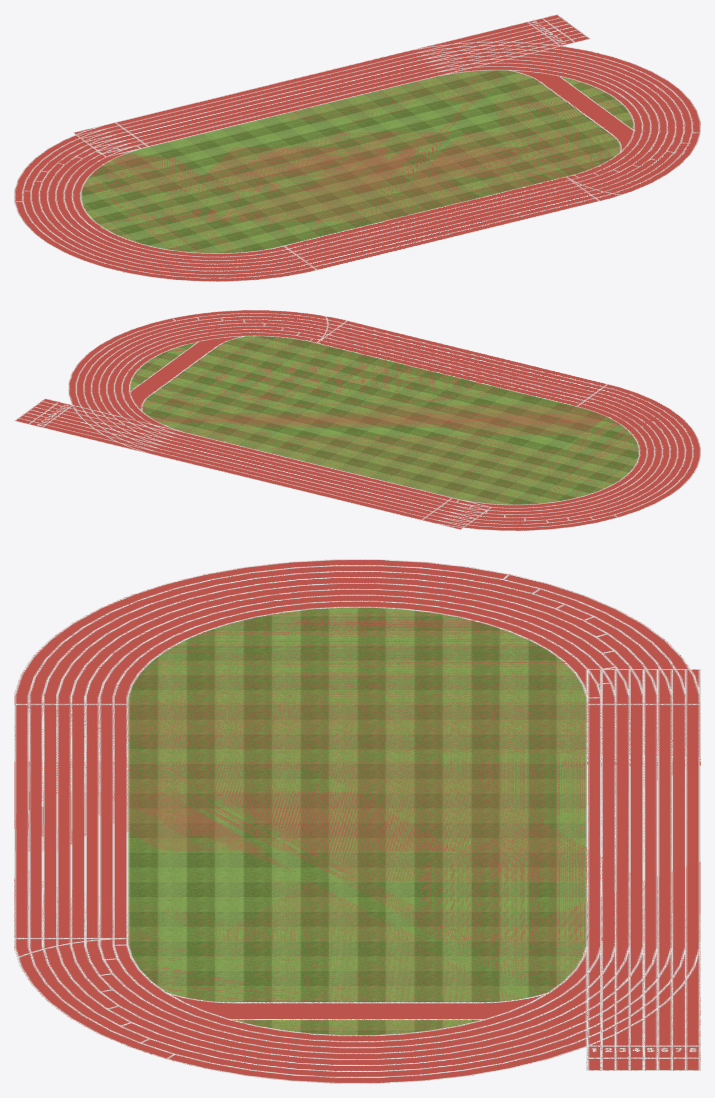
The picture shows the model from 3 angles, top to bottom: view 1: azimuth 30°, elevation 25°; view 2: azimuth 150°, elevation 25°; view 3: azimuth 270°, elevation 25°; orthographic projection. The views are drawn at different scales.
Parts seen in each view (by area): view 1: SketchUp; view 2: SketchUp; view 3: SketchUp.
Part boxes in pixels (box(x1,y1,x2,y2)): SketchUp: box(14, 14, 700, 281); SketchUp: box(14, 310, 700, 530); SketchUp: box(14, 559, 700, 1083).
Bounding box in the file's own units: 5685 × 3147 × 0.
Materials: 2 (1 with a texture image).
